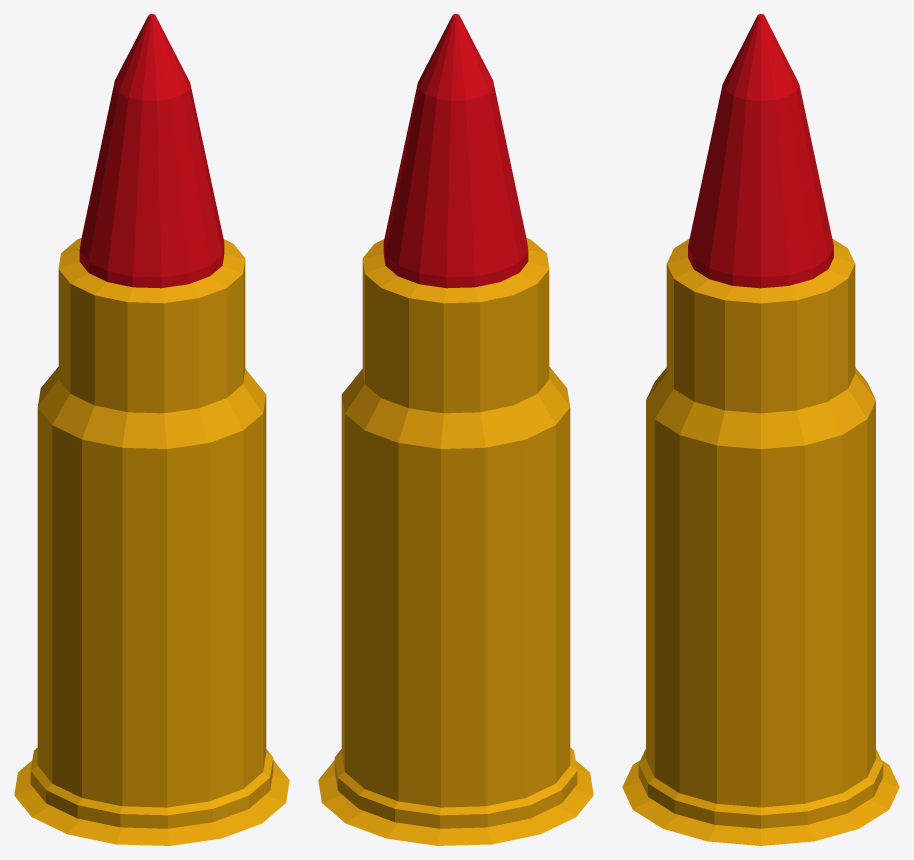
The model's file is Bullet.fbx.
3 renders of one model, left to right at view 1: azimuth 30°, elevation 25°; view 2: azimuth 150°, elevation 25°; view 3: azimuth 270°, elevation 25°, orthographic.
Parts seen in each view (by area): view 1: Cylinder, Cylinder.001; view 2: Cylinder, Cylinder.001; view 3: Cylinder, Cylinder.001.
Part boxes in pixels (left/top/right/bottom): Cylinder: left=14, top=238, right=289, bottom=845; Cylinder.001: left=79, top=14, right=224, bottom=288; Cylinder: left=318, top=238, right=593, bottom=845; Cylinder.001: left=383, top=14, right=528, bottom=288; Cylinder: left=622, top=238, right=899, bottom=845; Cylinder.001: left=688, top=14, right=833, bottom=288.
Size of the model in its own units: 241 by 740 by 241.
2 materials, 2 textured.
